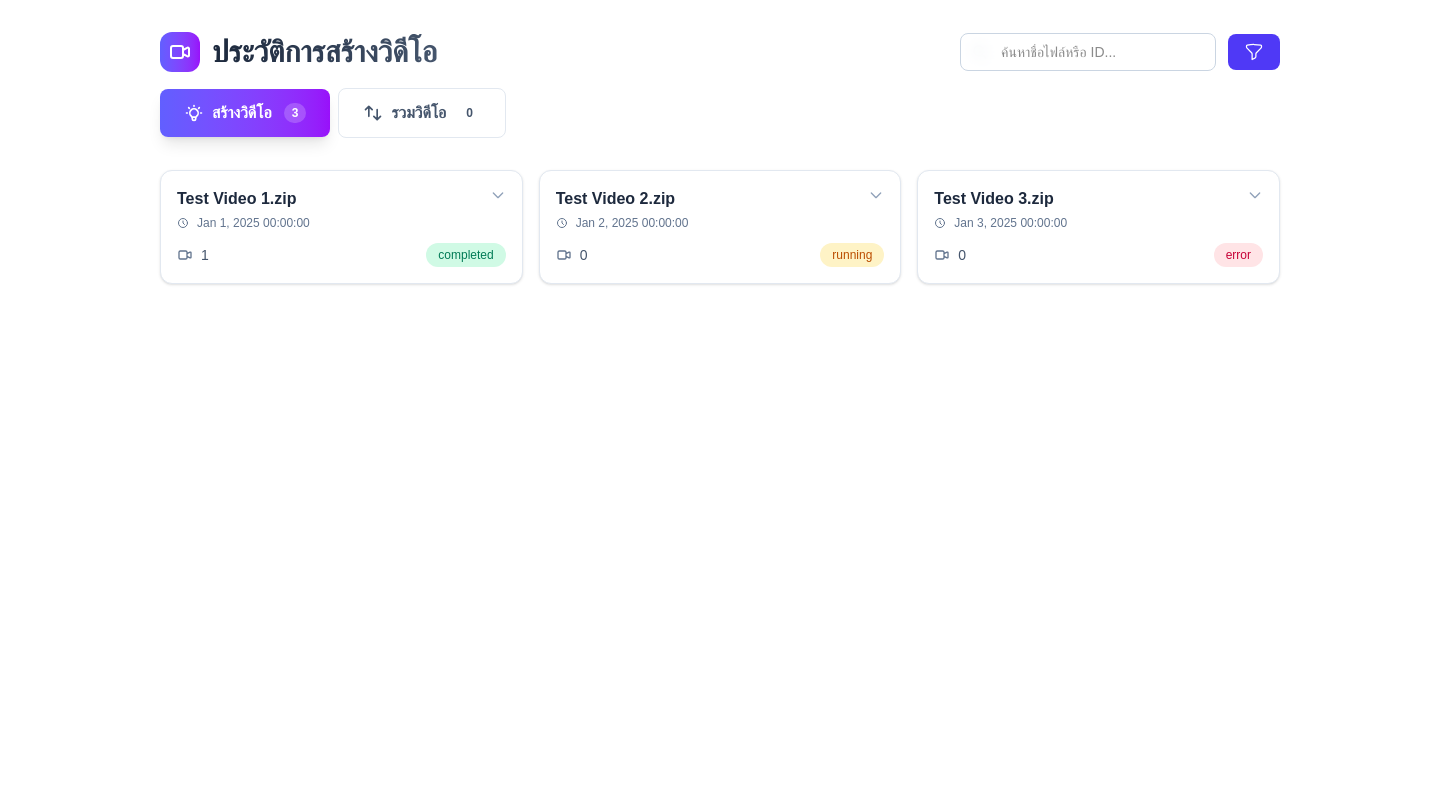
Test case: MyVideos Component › 11. should display video details when a video is clicked
Click the heading "Test Video 1.zip". click: {"x": 237, "y": 198}
box: [177,190,296,207]
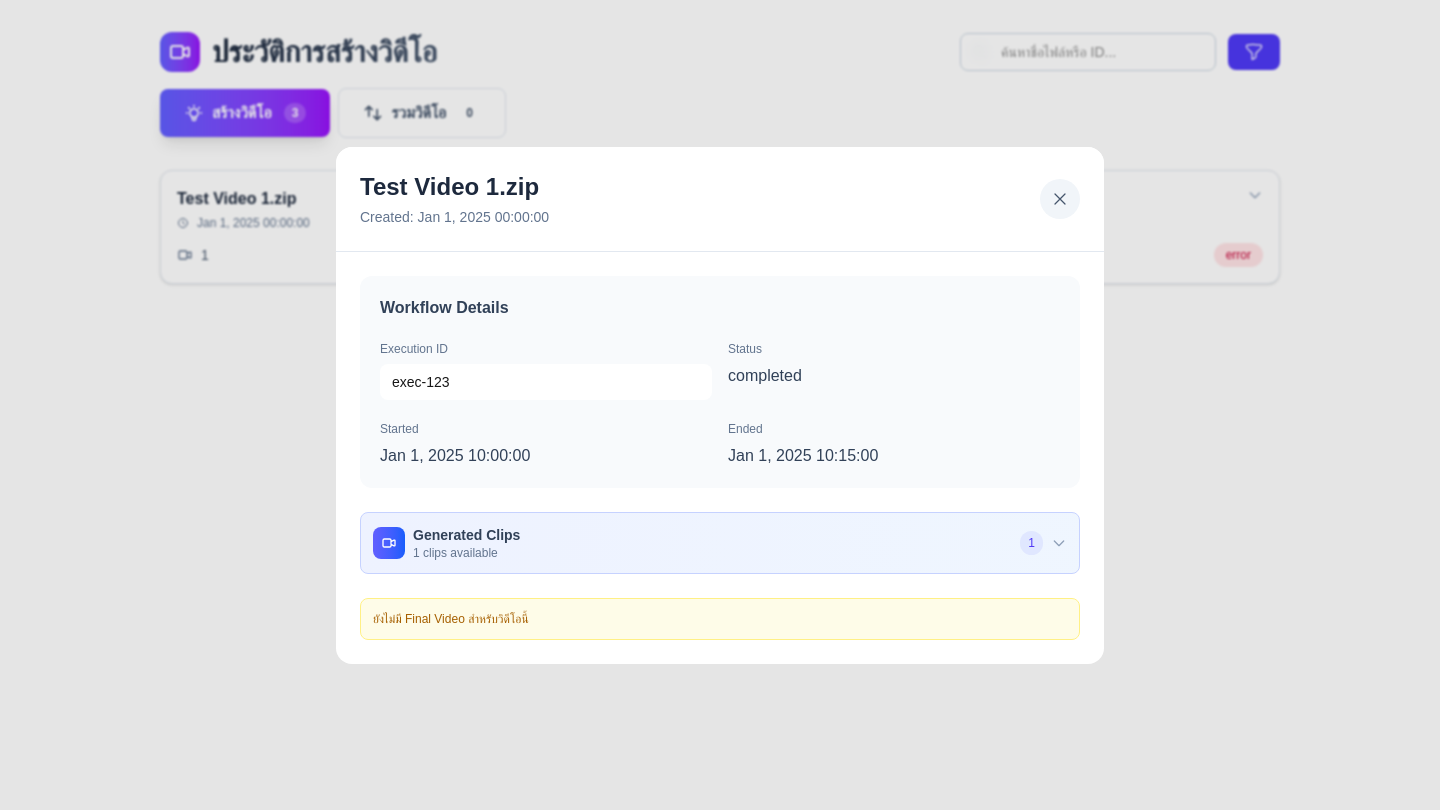
Now the heading "Workflow Details" is shown, box [380,298,509,316]
Now the text "Execution ID" is shown, box [380,342,448,356]
Now the text "exec-123" is shown, box [380,364,712,400]
